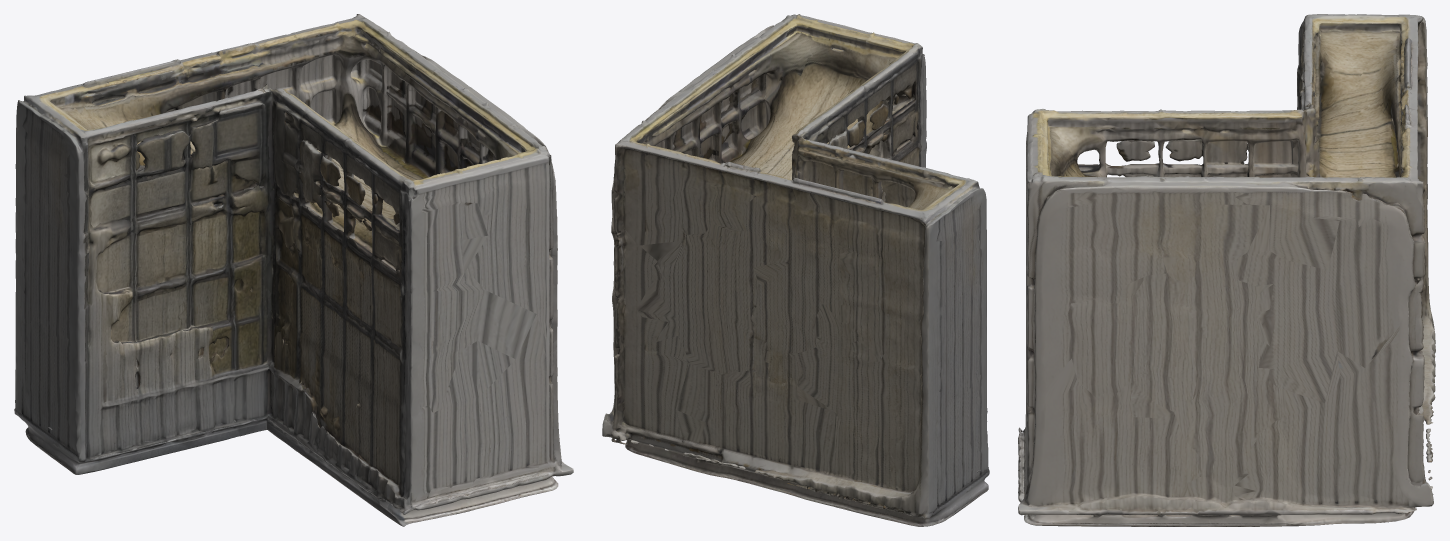
Rendered from Env_ExteriorCorner.fbx.
3 renders of one model, left to right at view 1: azimuth 30°, elevation 25°; view 2: azimuth 150°, elevation 25°; view 3: azimuth 270°, elevation 25°, orthographic. The views are drawn at different scales.
Parts seen in each view (by area): view 1: Env_ExteriorCorner; view 2: Env_ExteriorCorner; view 3: Env_ExteriorCorner.
Part boxes in pixels (box(x1,y1,x2,y2)): Env_ExteriorCorner: box(14, 14, 573, 526); Env_ExteriorCorner: box(602, 14, 989, 526); Env_ExteriorCorner: box(1018, 14, 1435, 526).
Size of the model in its own units: 99.5 by 87.76 by 96.02.
